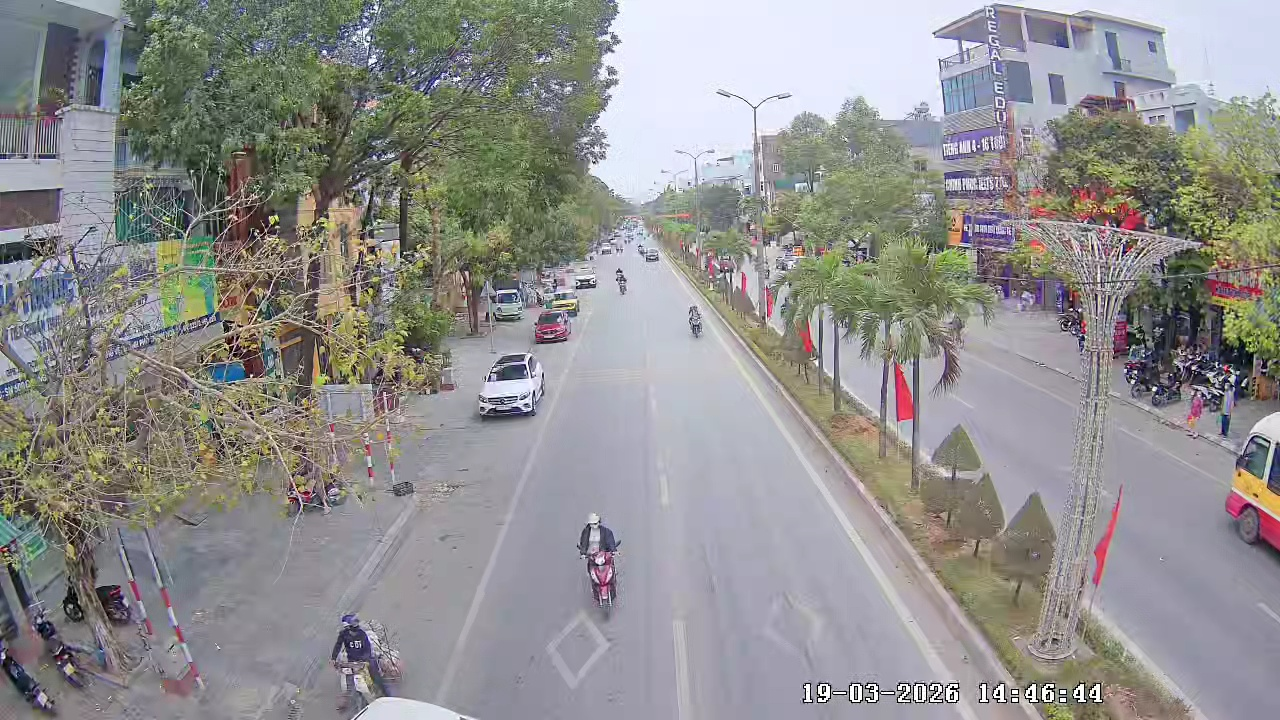car: (1225, 428, 1279, 581), (475, 351, 546, 418), (532, 307, 570, 344), (489, 284, 526, 322), (575, 267, 598, 292)
motorbike: (574, 509, 625, 621), (686, 302, 704, 338), (615, 268, 628, 295)
pedestrian: (1217, 394, 1232, 438)
